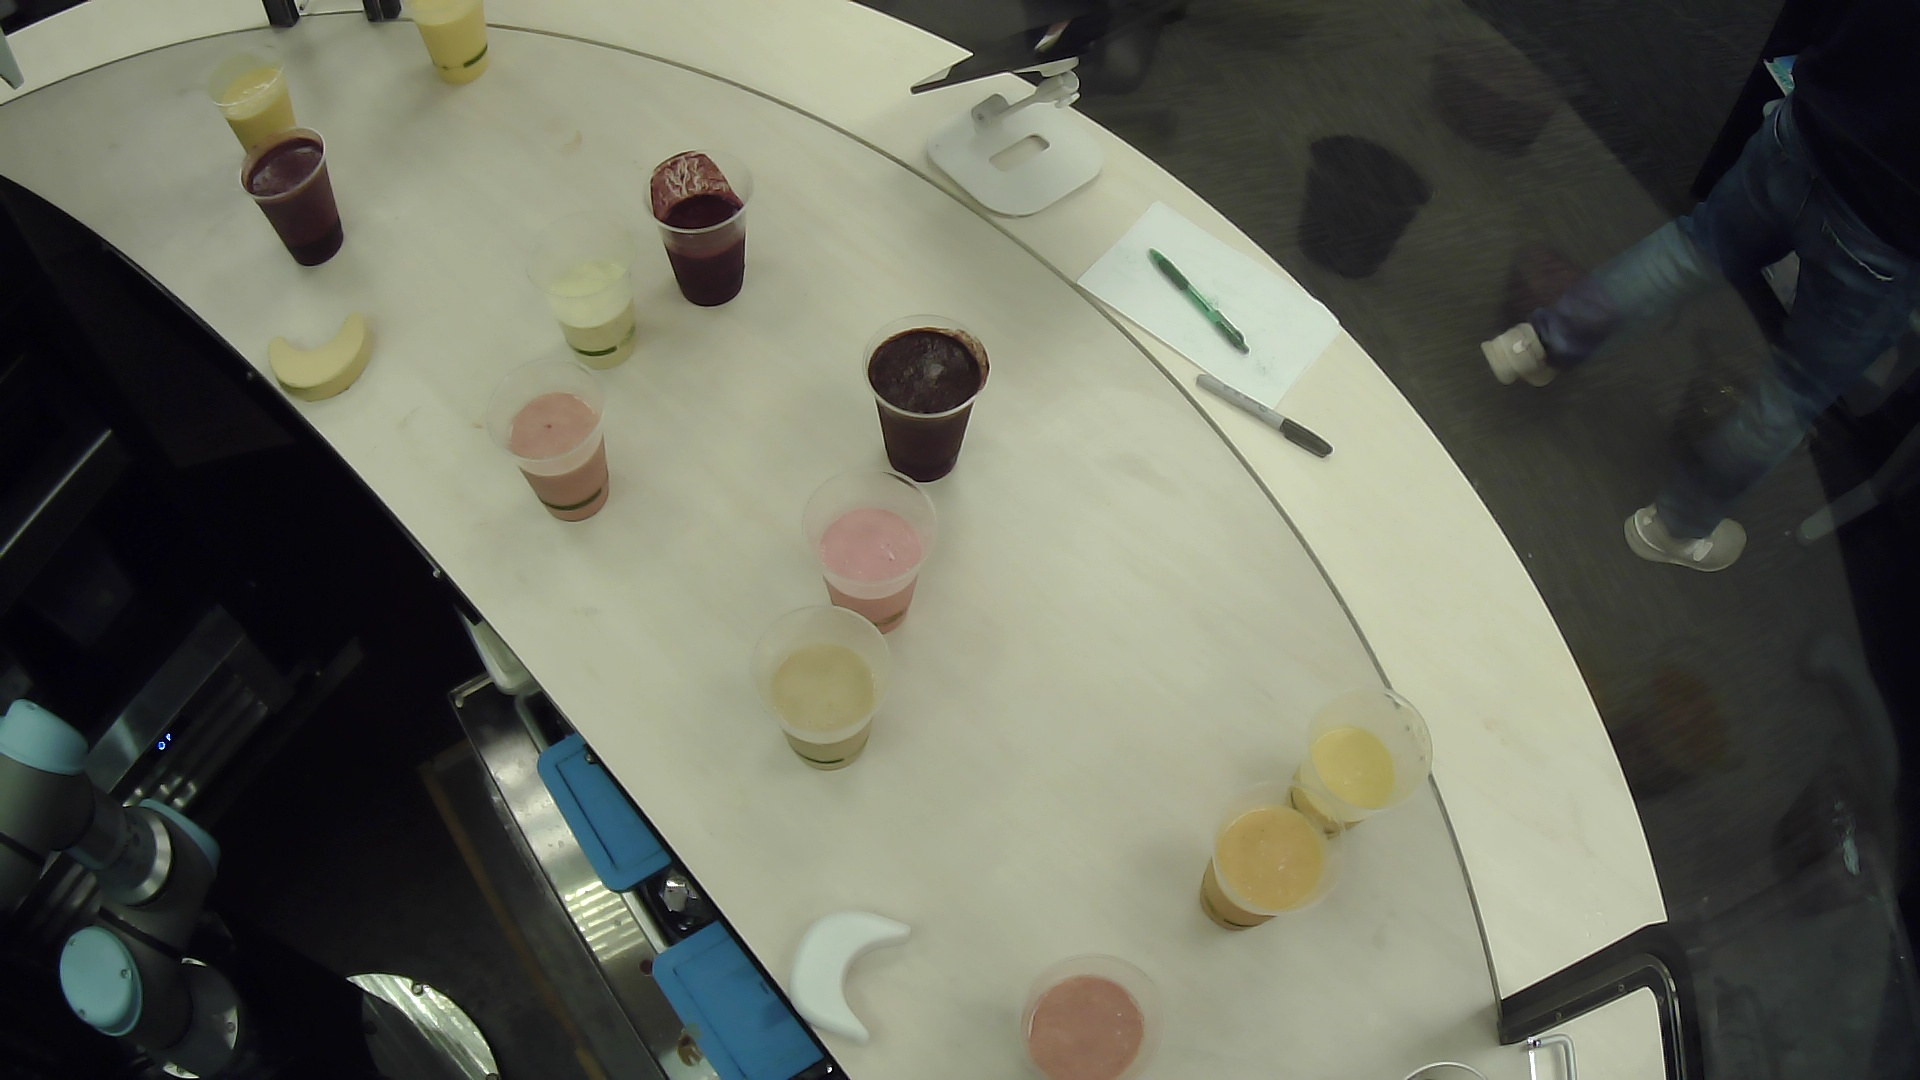Deliver: (785, 886, 944, 1051), (251, 286, 390, 425)
Full_cup: (744, 584, 903, 800), (477, 353, 650, 539), (853, 299, 1011, 495), (1188, 771, 1358, 948), (794, 451, 944, 649), (1001, 936, 1185, 1080), (1294, 671, 1449, 840), (500, 203, 655, 365), (632, 140, 762, 320), (231, 113, 357, 278), (203, 36, 320, 193), (392, 1, 525, 105)
